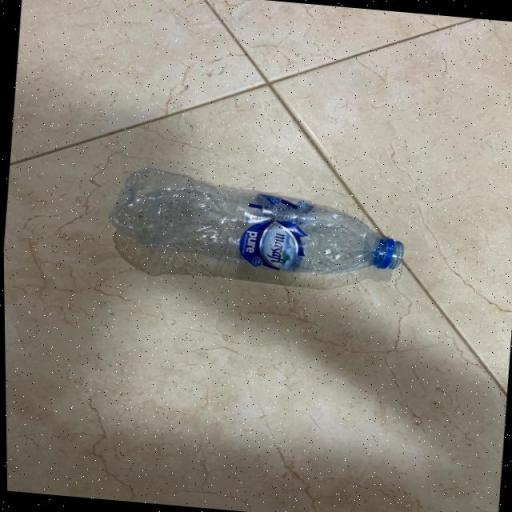plastic: (89, 155, 426, 289)
